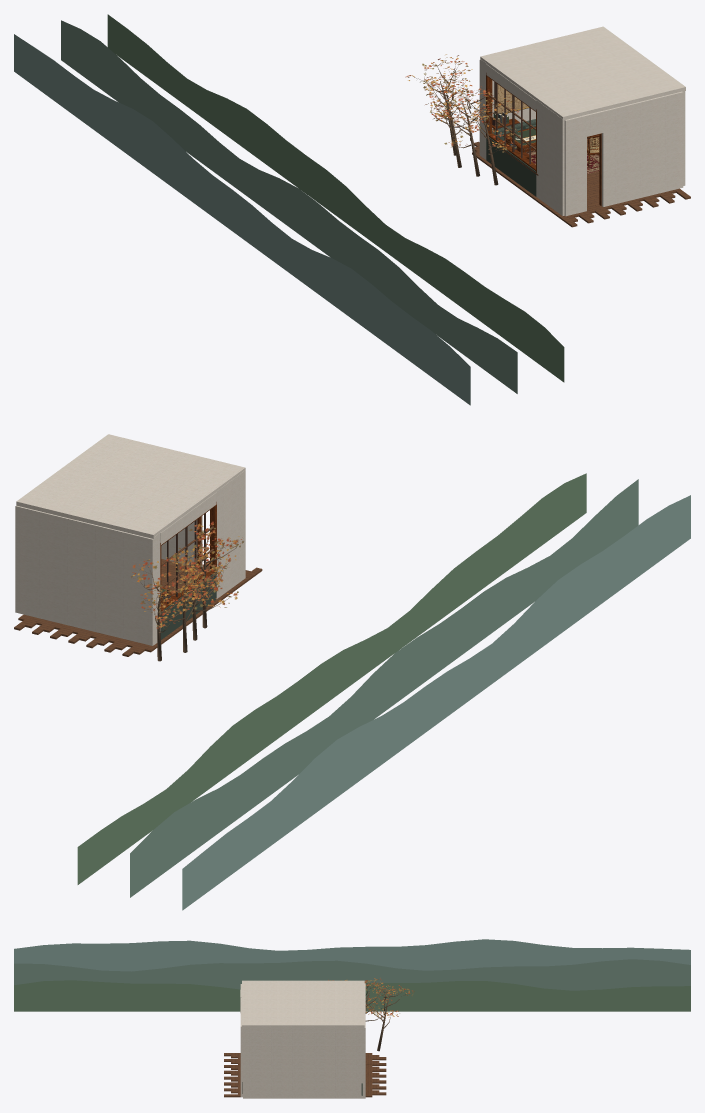
File: study-room.glb
3 renders of one model, top to bottom at view 1: azimuth 30°, elevation 25°; view 2: azimuth 150°, elevation 25°; view 3: azimuth 270°, elevation 25°, orthographic. The views are drawn at different scales.
Visible parts, largest first — view 1: WindowGarden, RoomShell; view 2: WindowGarden, RoomShell; view 3: WindowGarden, RoomShell.
Boxes of the visible parts, x1,y1,x2,y2 form: WindowGarden: [14, 14, 564, 405]; RoomShell: [472, 26, 690, 227]; WindowGarden: [77, 473, 690, 910]; RoomShell: [14, 434, 262, 656]; WindowGarden: [14, 939, 690, 1051]; RoomShell: [224, 980, 386, 1098].
Size of the model in its own units: 11.85 by 3.55 by 25.3.
49 materials, 8 textured.
